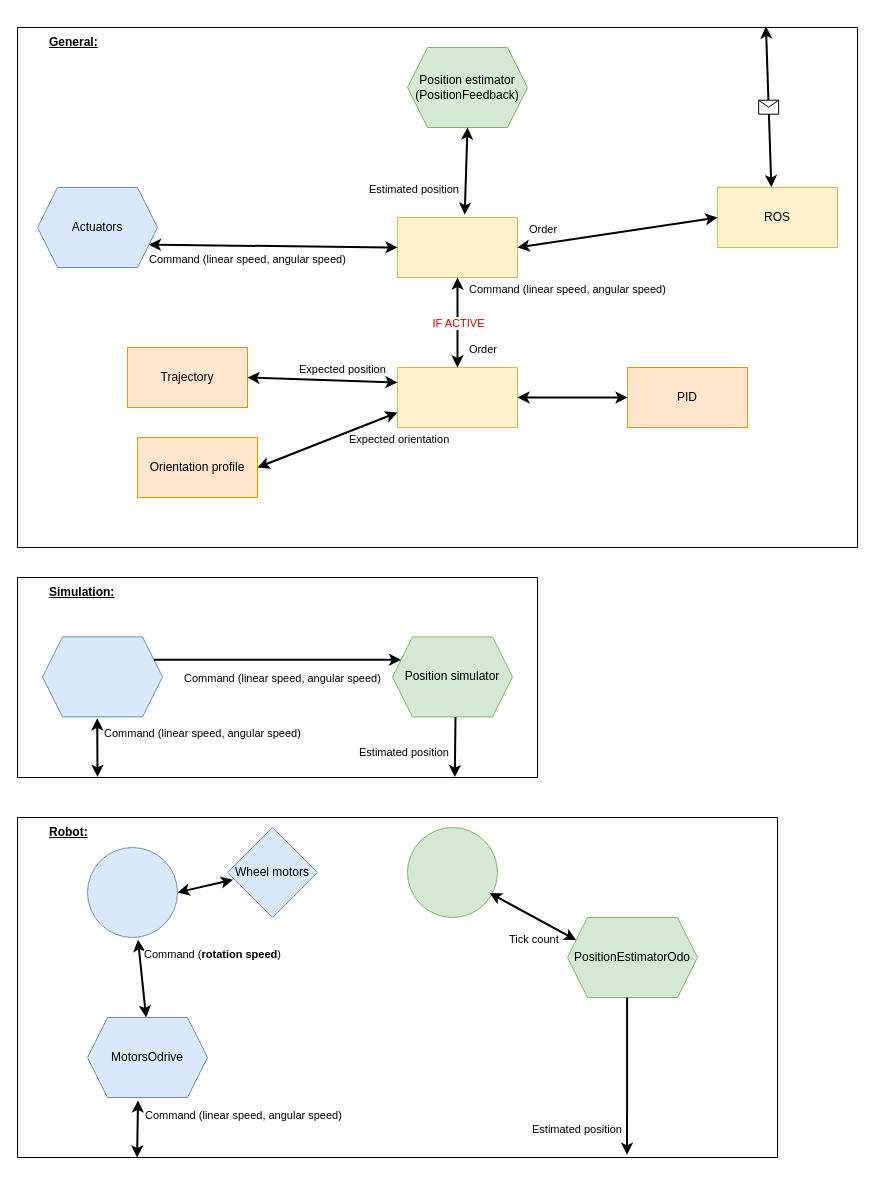
Image size: 875x1185. Some labels were removed from this diagram. Here are the shapes that lost their labels. From the top down, the box of each, then its label:
(396, 216, 518, 278): Manager
(396, 366, 518, 428): Controller
(42, 636, 162, 717): MotorStub
(86, 846, 178, 938): Odrive library
(406, 826, 498, 918): OdoEncoder
